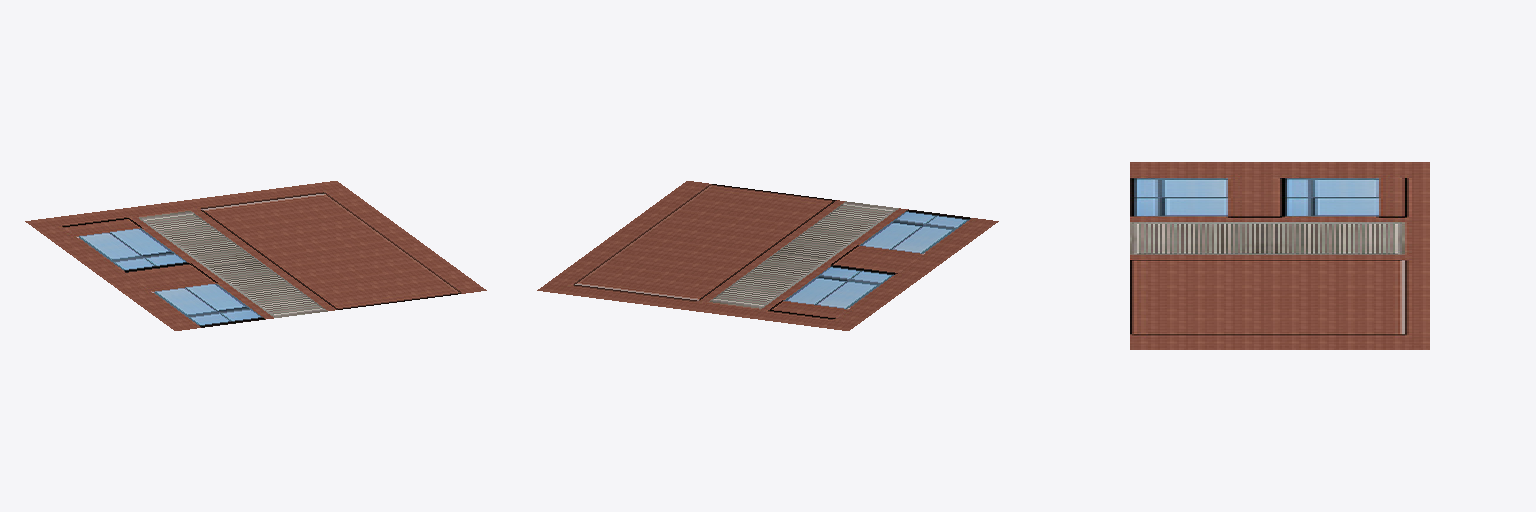
3 renders of one model, left to right at view 1: azimuth 30°, elevation 25°; view 2: azimuth 150°, elevation 25°; view 3: azimuth 270°, elevation 25°, orthographic.
Visible parts, largest first — view 1: data07; view 2: data07; view 3: data07.
Boxes of the visible parts, <box> form: data07: <box>25,181,486,330</box>; data07: <box>537,181,998,330</box>; data07: <box>1130,162,1429,349</box>.
Size of the model in its own units: 7.19 by 0.7813 by 6.
Materials: 1 (1 with a texture image).